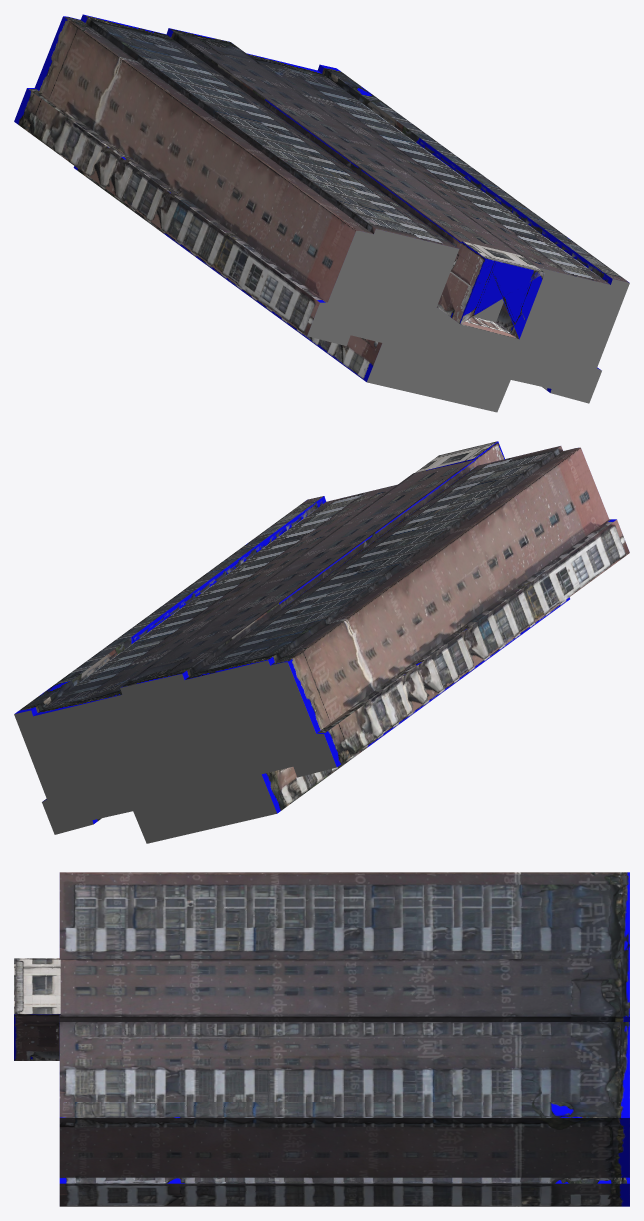
File: rebuilding.obj
3 views of the same model, one above another, from view 1: azimuth 30°, elevation 25°; view 2: azimuth 150°, elevation 25°; view 3: azimuth 270°, elevation 25° (orthographic). The views are drawn at different scales.
Visible parts, largest first — view 1: grp150, grp25, grp33, grp109, grp93, grp101, grp21, grp85, grp105, grp49, grp89, grp113 (+5 smaller); view 2: grp125, grp25, grp33, grp109, grp93, grp101, grp85, grp105, grp49, grp89, grp113, grp117 (+3 smaller); view 3: grp93, grp109, grp81, grp101, grp73, grp85, grp117, grp77, grp97, grp13, grp121, grp9.
Boxes of the visible parts, x1=… form: grp150: x1=307, y1=229, x2=629, y2=412; grp25: x1=34, y1=16, x2=355, y2=302; grp33: x1=14, y1=88, x2=319, y2=335; grp109: x1=83, y1=14, x2=458, y2=248; grp93: x1=246, y1=53, x2=610, y2=284; grp101: x1=169, y1=28, x2=522, y2=256; grp21: x1=460, y1=258, x2=544, y2=339; grp85: x1=320, y1=64, x2=629, y2=282; grp105: x1=166, y1=28, x2=461, y2=247; grp49: x1=73, y1=166, x2=382, y2=381; grp89: x1=317, y1=64, x2=612, y2=284; grp113: x1=80, y1=14, x2=375, y2=233; grp125: x1=14, y1=660, x2=336, y2=843; grp25: x1=288, y1=448, x2=608, y2=733; grp33: x1=324, y1=520, x2=629, y2=766; grp109: x1=185, y1=446, x2=560, y2=679; grp93: x1=33, y1=484, x2=397, y2=716; grp101: x1=121, y1=460, x2=473, y2=687; grp85: x1=15, y1=496, x2=323, y2=713; grp105: x1=182, y1=459, x2=476, y2=679; grp49: x1=261, y1=597, x2=569, y2=813; grp89: x1=31, y1=496, x2=326, y2=715; grp113: x1=268, y1=446, x2=562, y2=665; grp117: x1=270, y1=448, x2=575, y2=665; grp93: x1=59, y1=1022, x2=629, y2=1101; grp109: x1=59, y1=884, x2=629, y2=958; grp81: x1=59, y1=1118, x2=629, y2=1177; grp101: x1=59, y1=959, x2=629, y2=1016; grp73: x1=59, y1=1183, x2=629, y2=1206; grp85: x1=59, y1=1102, x2=629, y2=1117; grp117: x1=59, y1=875, x2=629, y2=884; grp77: x1=59, y1=1177, x2=629, y2=1183; grp97: x1=59, y1=1016, x2=629, y2=1021; grp13: x1=14, y1=958, x2=60, y2=1014; grp121: x1=59, y1=872, x2=629, y2=875; grp9: x1=14, y1=1014, x2=60, y2=1060.
Bounding box in the file's own units: 36.75 × 24.98 × 62.41.
33 materials, 31 textured.
